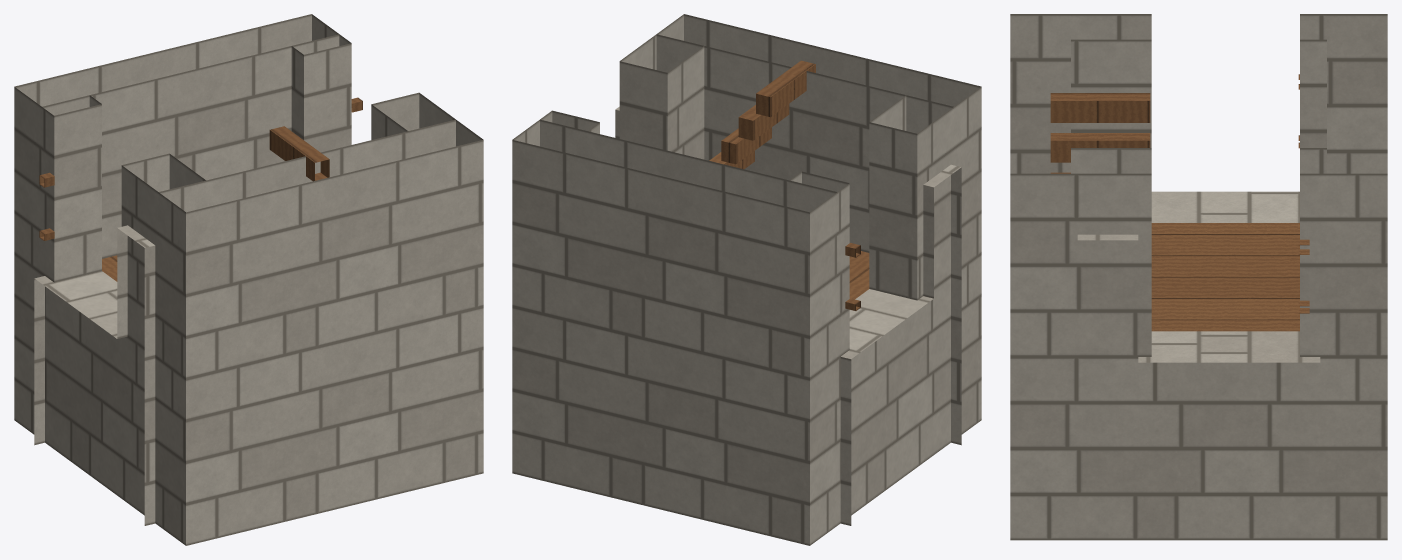
The model's file is Tower_Door_Inline.fbx.
The picture shows the model from 3 angles, left to right: view 1: azimuth 30°, elevation 25°; view 2: azimuth 150°, elevation 25°; view 3: azimuth 270°, elevation 25°; orthographic projection. The views are drawn at different scales.
Parts seen in each view (by area): view 1: Tower_Door_Inline; view 2: Tower_Door_Inline; view 3: Tower_Door_Inline.
Boxes of the visible parts, x1,y1,x2,y2 form: Tower_Door_Inline: (14,14,483,545); Tower_Door_Inline: (512,14,981,545); Tower_Door_Inline: (1010,14,1387,540).
Size of the model in its own units: 3 by 3 by 2.8.
Materials: 2 (2 with a texture image).
